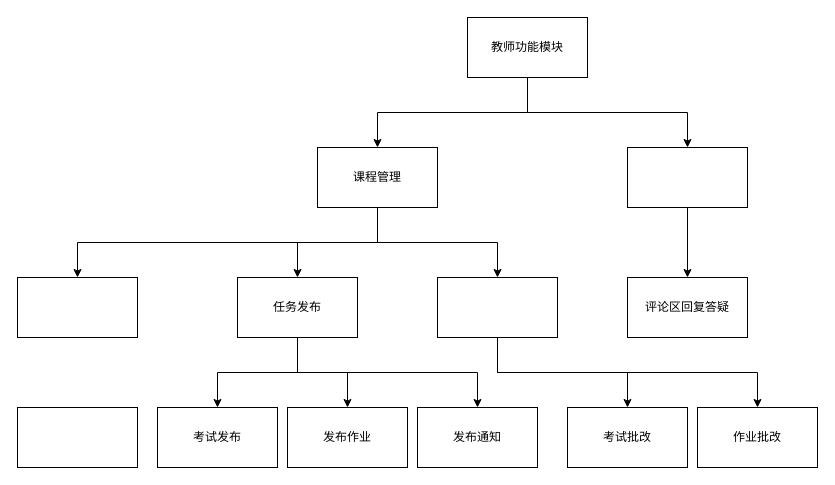
Some shapes in this 835 by 485 pixel diagram are drawn without their labels. The centre of each missing label's shape, as x and y in pixels:
"任务批改" belongs at point 497,307.
"课后答疑" belongs at point 687,177.
"课程发布" belongs at point 77,307.
"课程资源上传" belongs at point 77,437.
